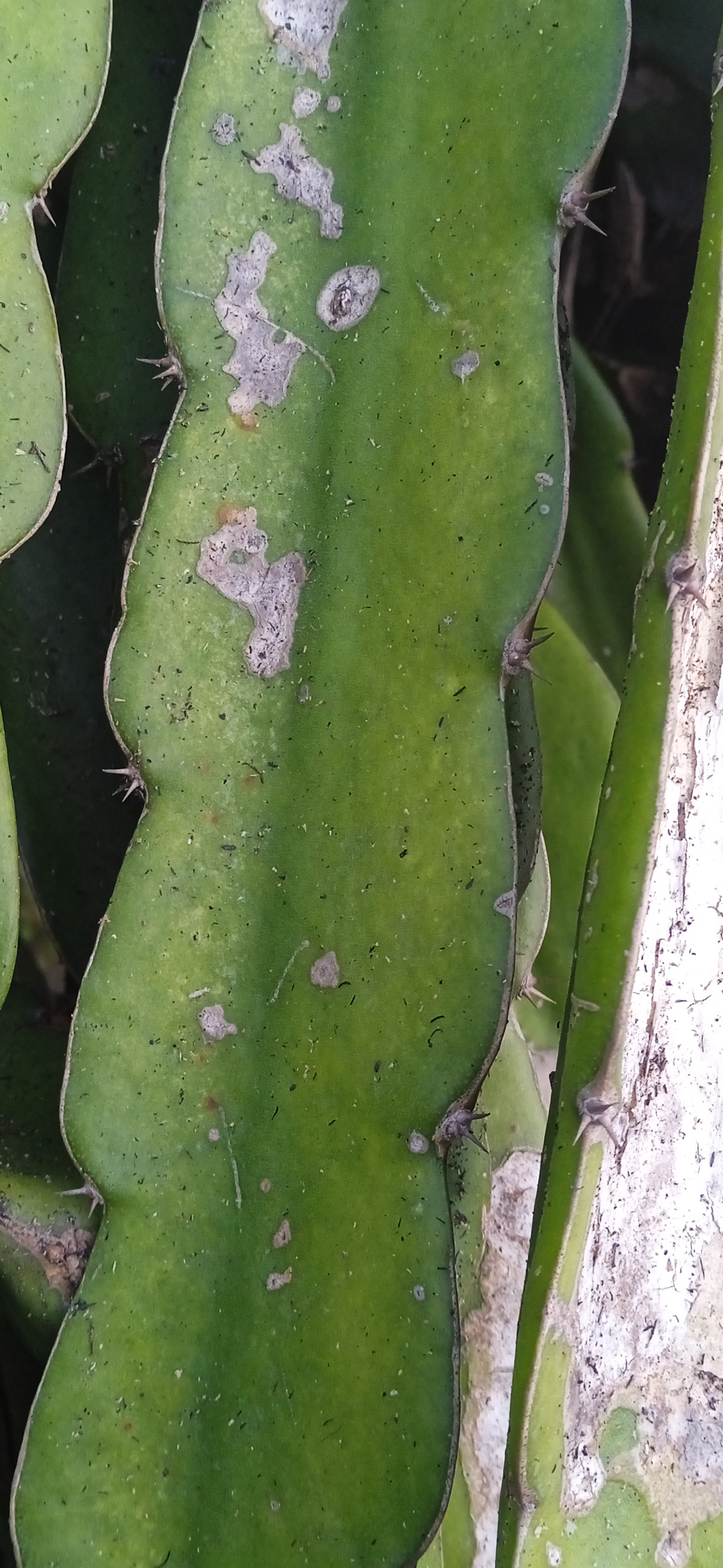stemcanker: (19, 2, 630, 1568), (501, 380, 723, 1568)
